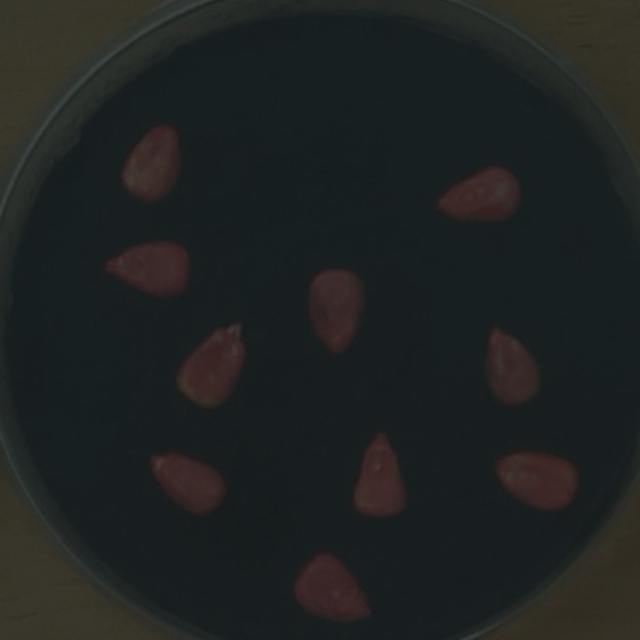Zea mays: (165, 313, 255, 419), (284, 543, 379, 634), (295, 258, 374, 366), (136, 443, 235, 528), (339, 421, 416, 529), (94, 230, 202, 307), (482, 443, 588, 520), (110, 114, 193, 212), (474, 315, 551, 417), (428, 158, 530, 233)
